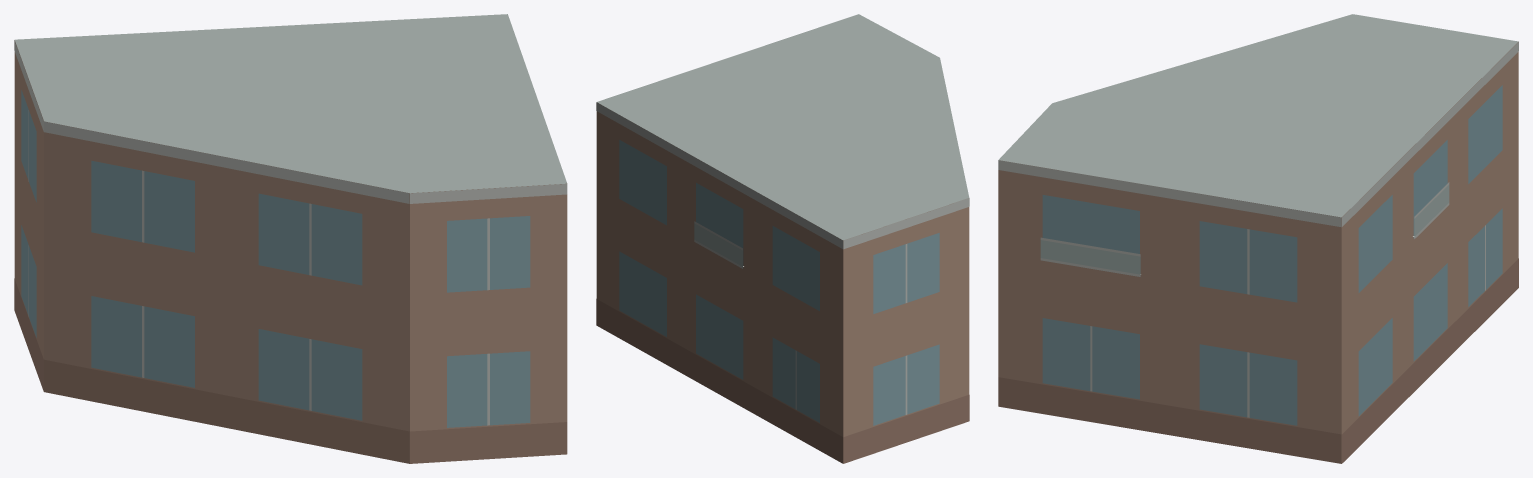
The model's file is survey-upis-32914767.glb.
The picture shows the model from 3 angles, left to right: view 1: azimuth 30°, elevation 25°; view 2: azimuth 150°, elevation 25°; view 3: azimuth 270°, elevation 25°; orthographic projection. The views are drawn at different scales.
Visible parts, largest first — view 1: survey-upis-32914767.tmp; view 2: survey-upis-32914767.tmp; view 3: survey-upis-32914767.tmp.
Boxes of the visible parts, box(x1,y1,x2,y2) form: survey-upis-32914767.tmp: box(14, 14, 567, 463); survey-upis-32914767.tmp: box(596, 14, 969, 463); survey-upis-32914767.tmp: box(998, 14, 1518, 463).
Size of the model in its own units: 10.81 by 6.1 by 11.69.
